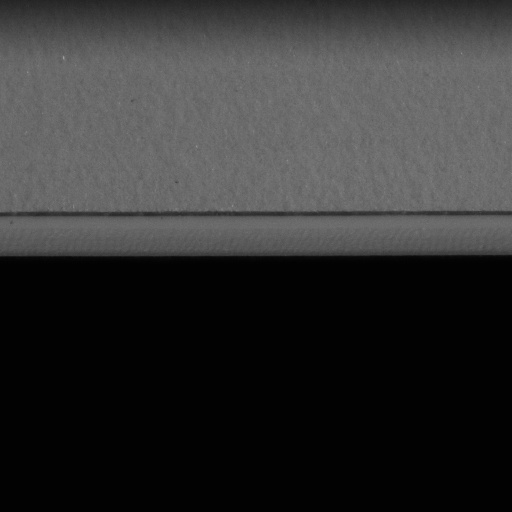jiaofeng: (0, 208, 511, 226)
